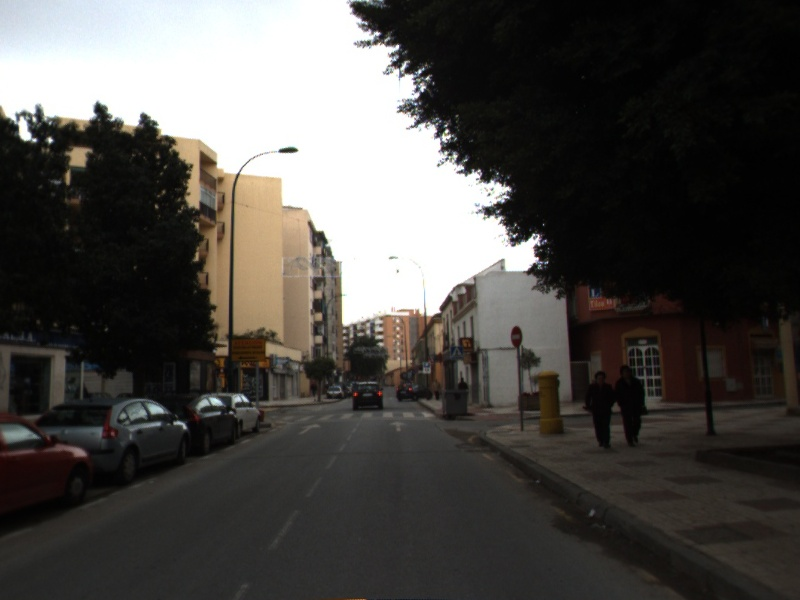STRAIGHT: (296, 422, 323, 437), (387, 419, 409, 433)
